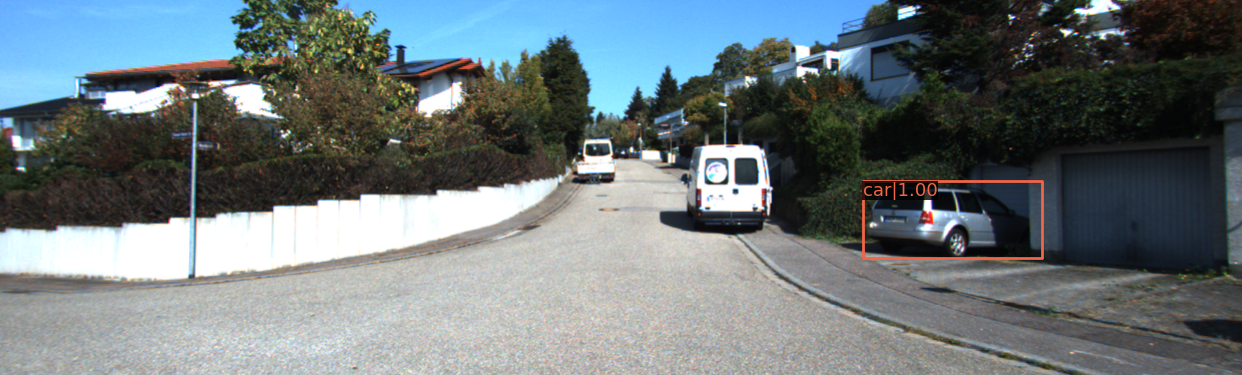car: (864, 187, 1058, 261)
